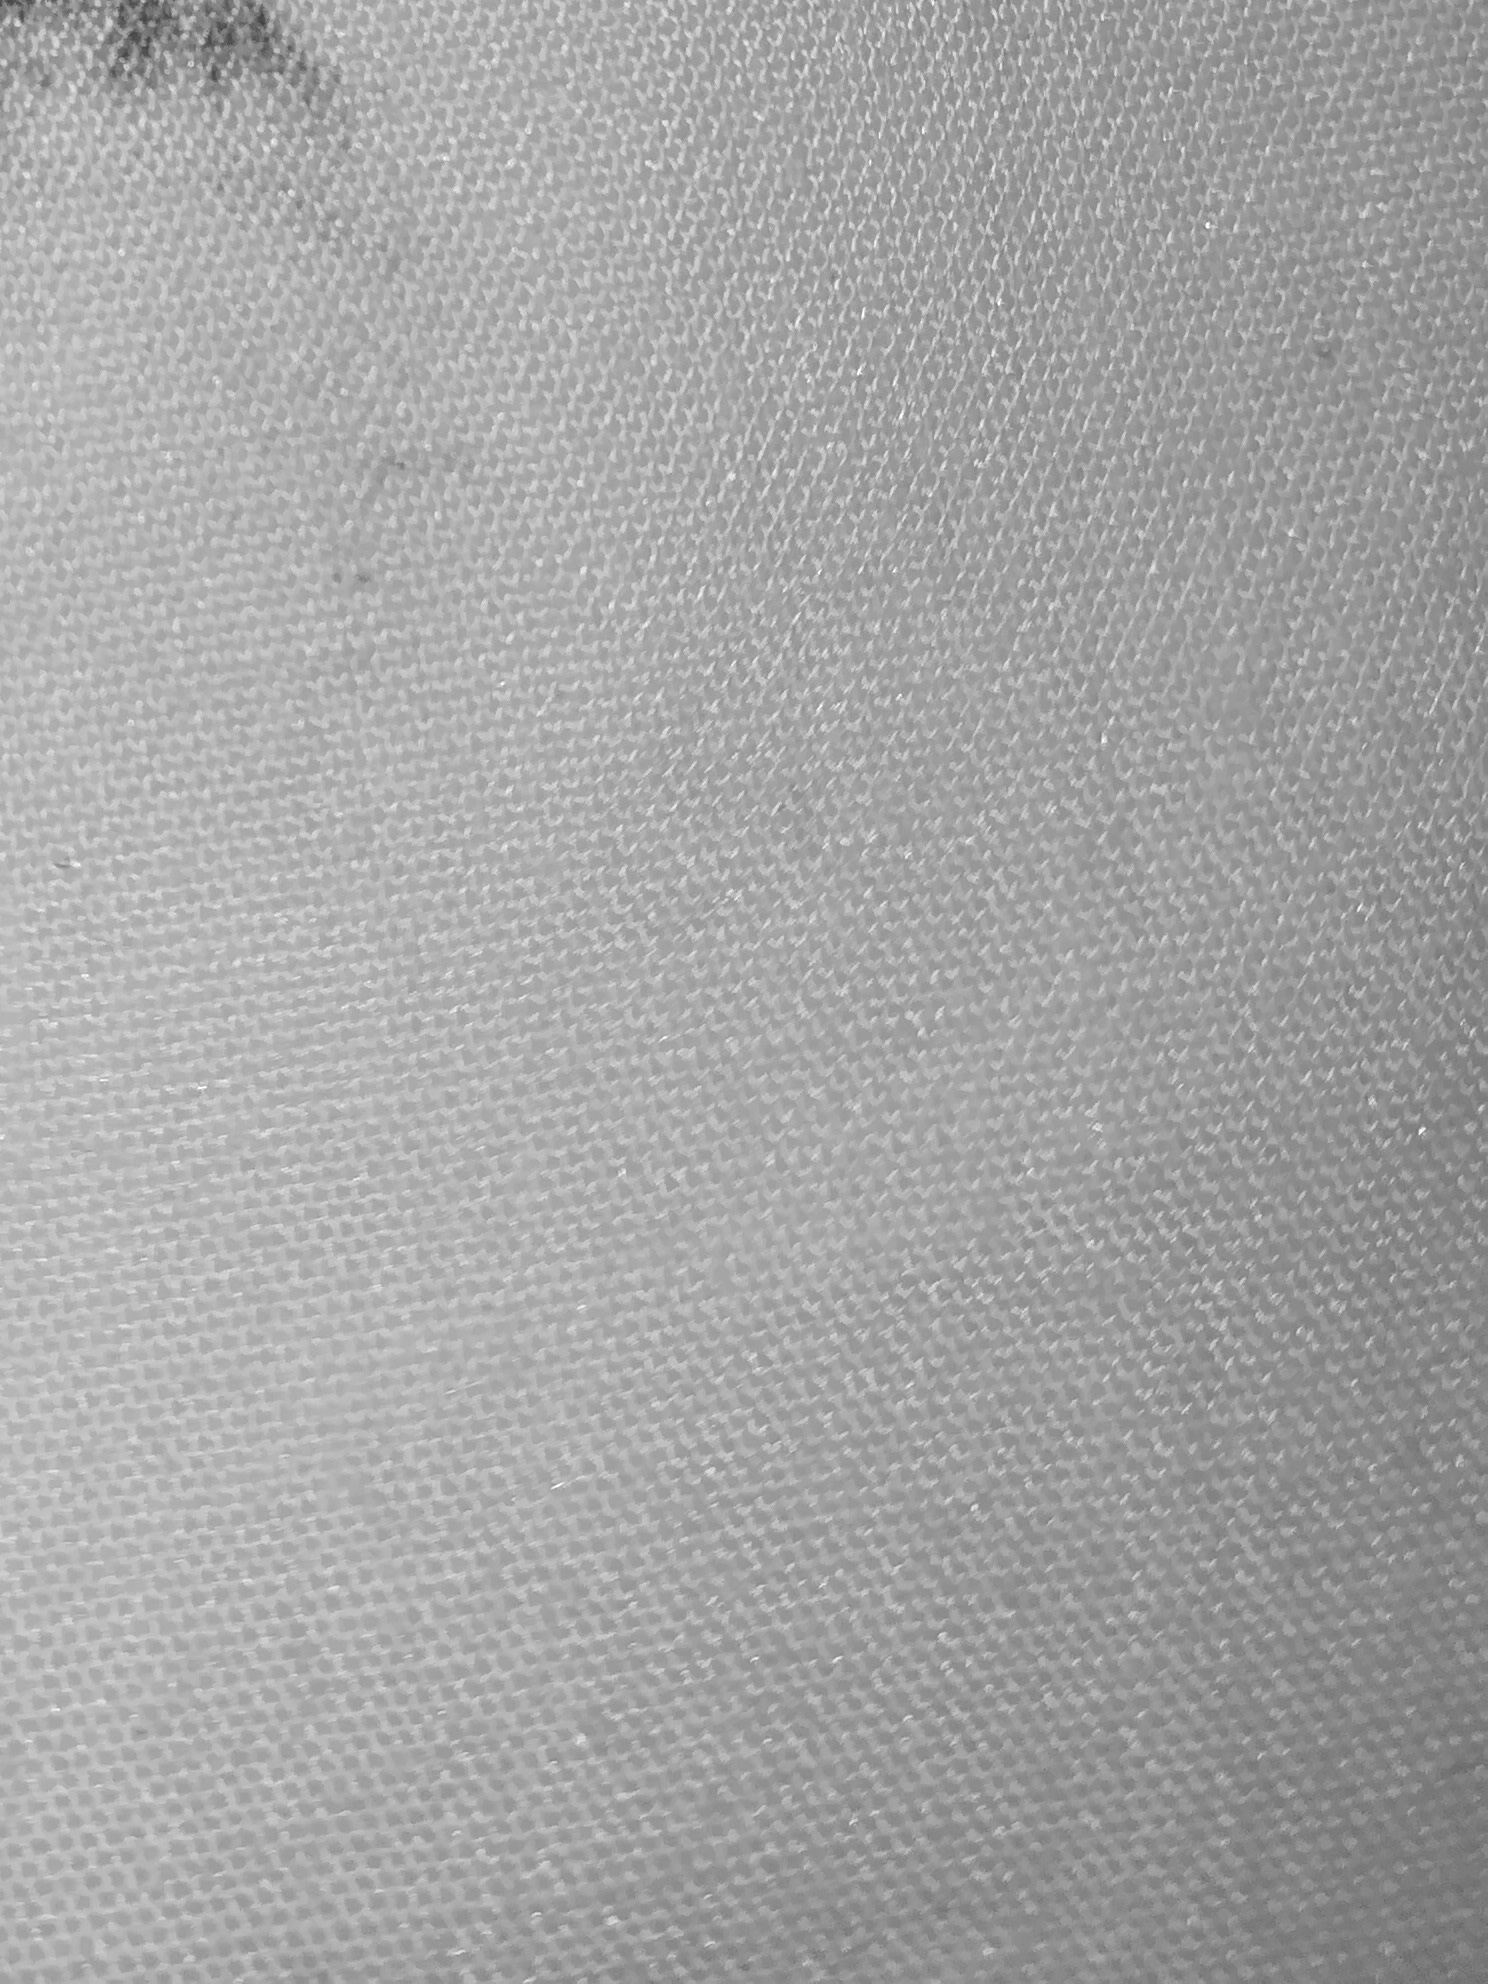Stain: (2, 2, 456, 272)
